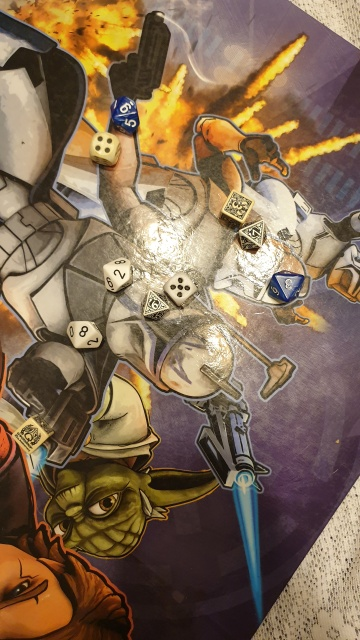d10-2: (101, 255, 136, 294)
d10-3: (269, 267, 305, 303)
d10-8: (65, 317, 104, 349)
d10-9: (108, 92, 138, 129)
d6-4: (85, 131, 120, 163)
d6-5: (165, 272, 196, 302)
d6p-3: (220, 188, 252, 223)
d6p-6: (9, 417, 49, 452)
d8p-6: (136, 288, 169, 321)
d8p-7: (239, 220, 269, 248)
